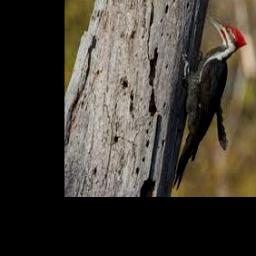Woodpecker: (172, 14, 247, 189)
